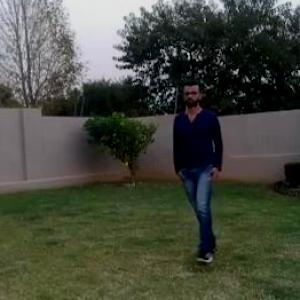follow: (176, 79, 222, 236)
